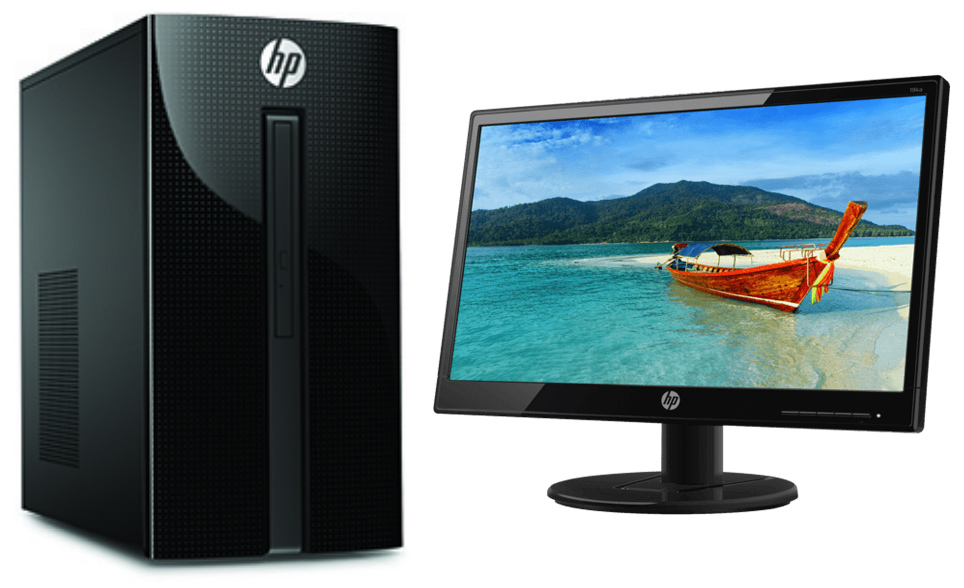hp-monitor-19ka: (425, 75, 957, 520)
